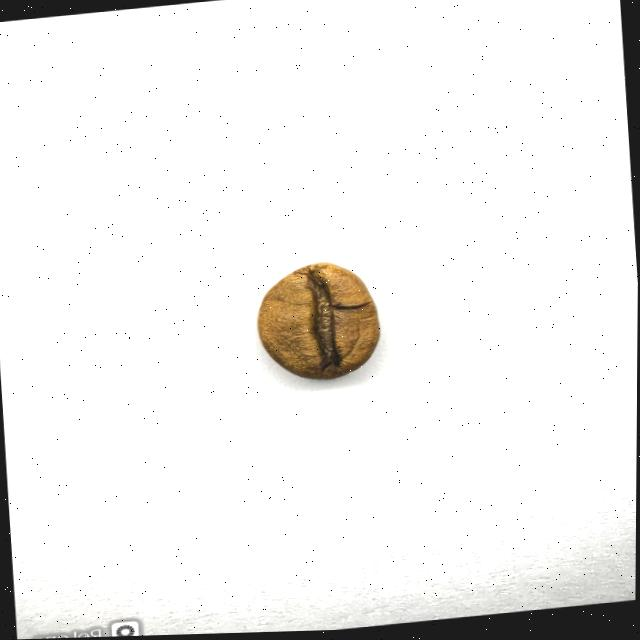Quaker: (253, 257, 384, 388)
